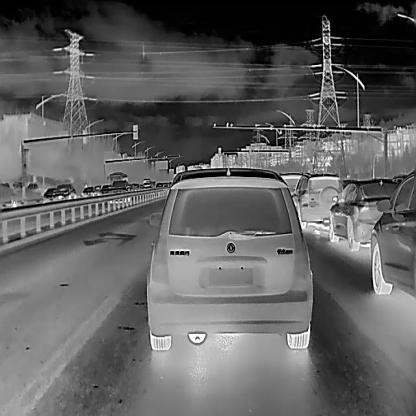car: (145, 168, 312, 350), (370, 170, 415, 296), (330, 178, 399, 251), (291, 172, 343, 235), (52, 184, 75, 200), (109, 179, 130, 194), (105, 172, 128, 184), (42, 186, 55, 201), (79, 186, 93, 197), (98, 184, 110, 194), (142, 177, 152, 186), (155, 181, 172, 186), (130, 183, 142, 188)
